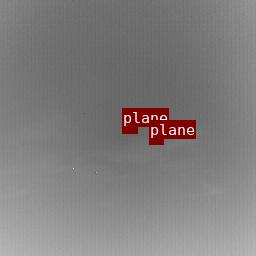plane: (122, 127, 137, 133), (149, 139, 163, 144)
